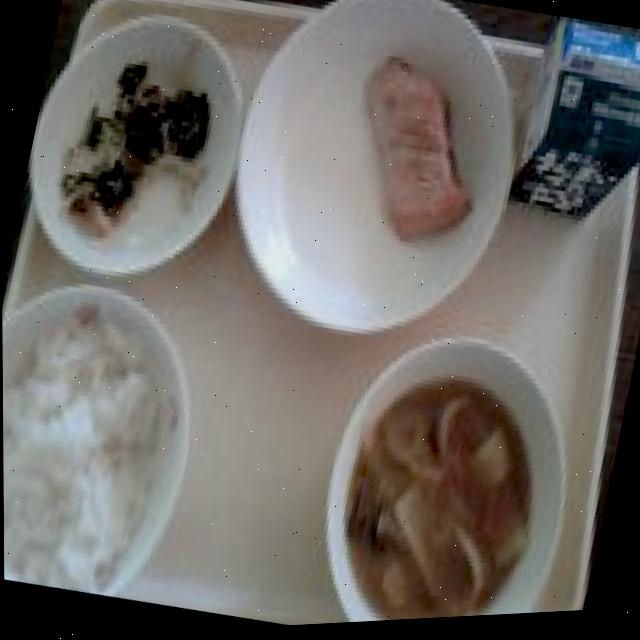熟制海鲜: (319, 8, 520, 268)
